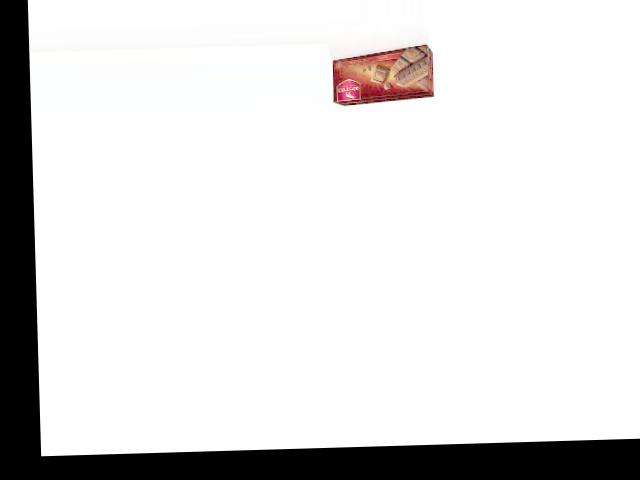chocolate: (331, 42, 432, 107)
